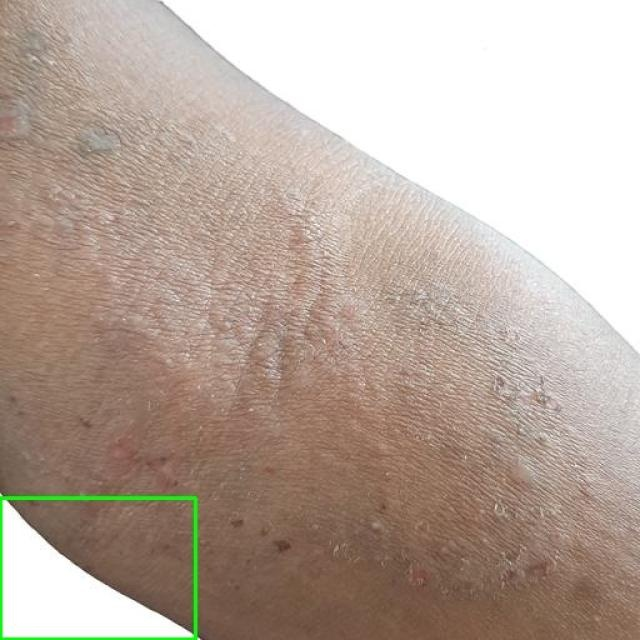Tinea Corporis: (0, 498, 195, 639)
